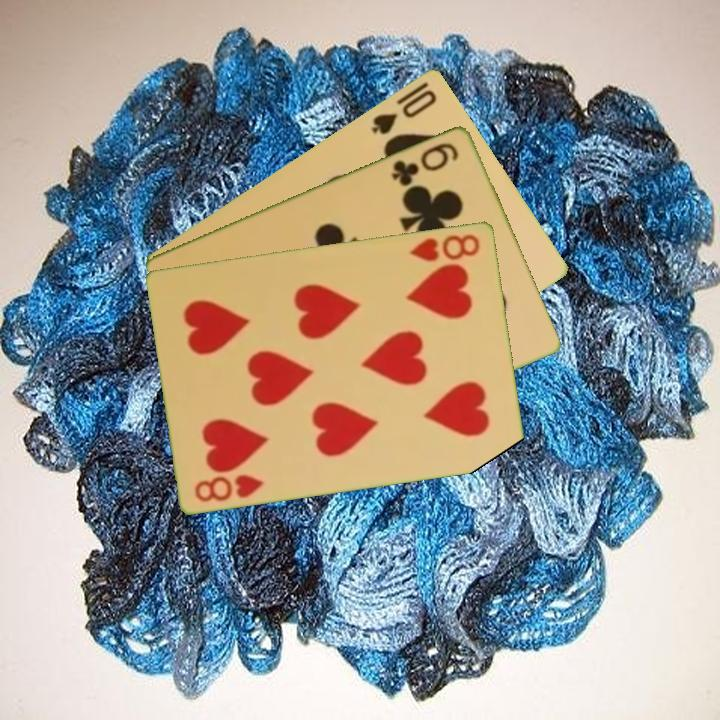10s: (367, 85, 440, 137)
6c: (388, 138, 462, 189)
8h: (191, 470, 267, 505), (406, 230, 483, 264)
